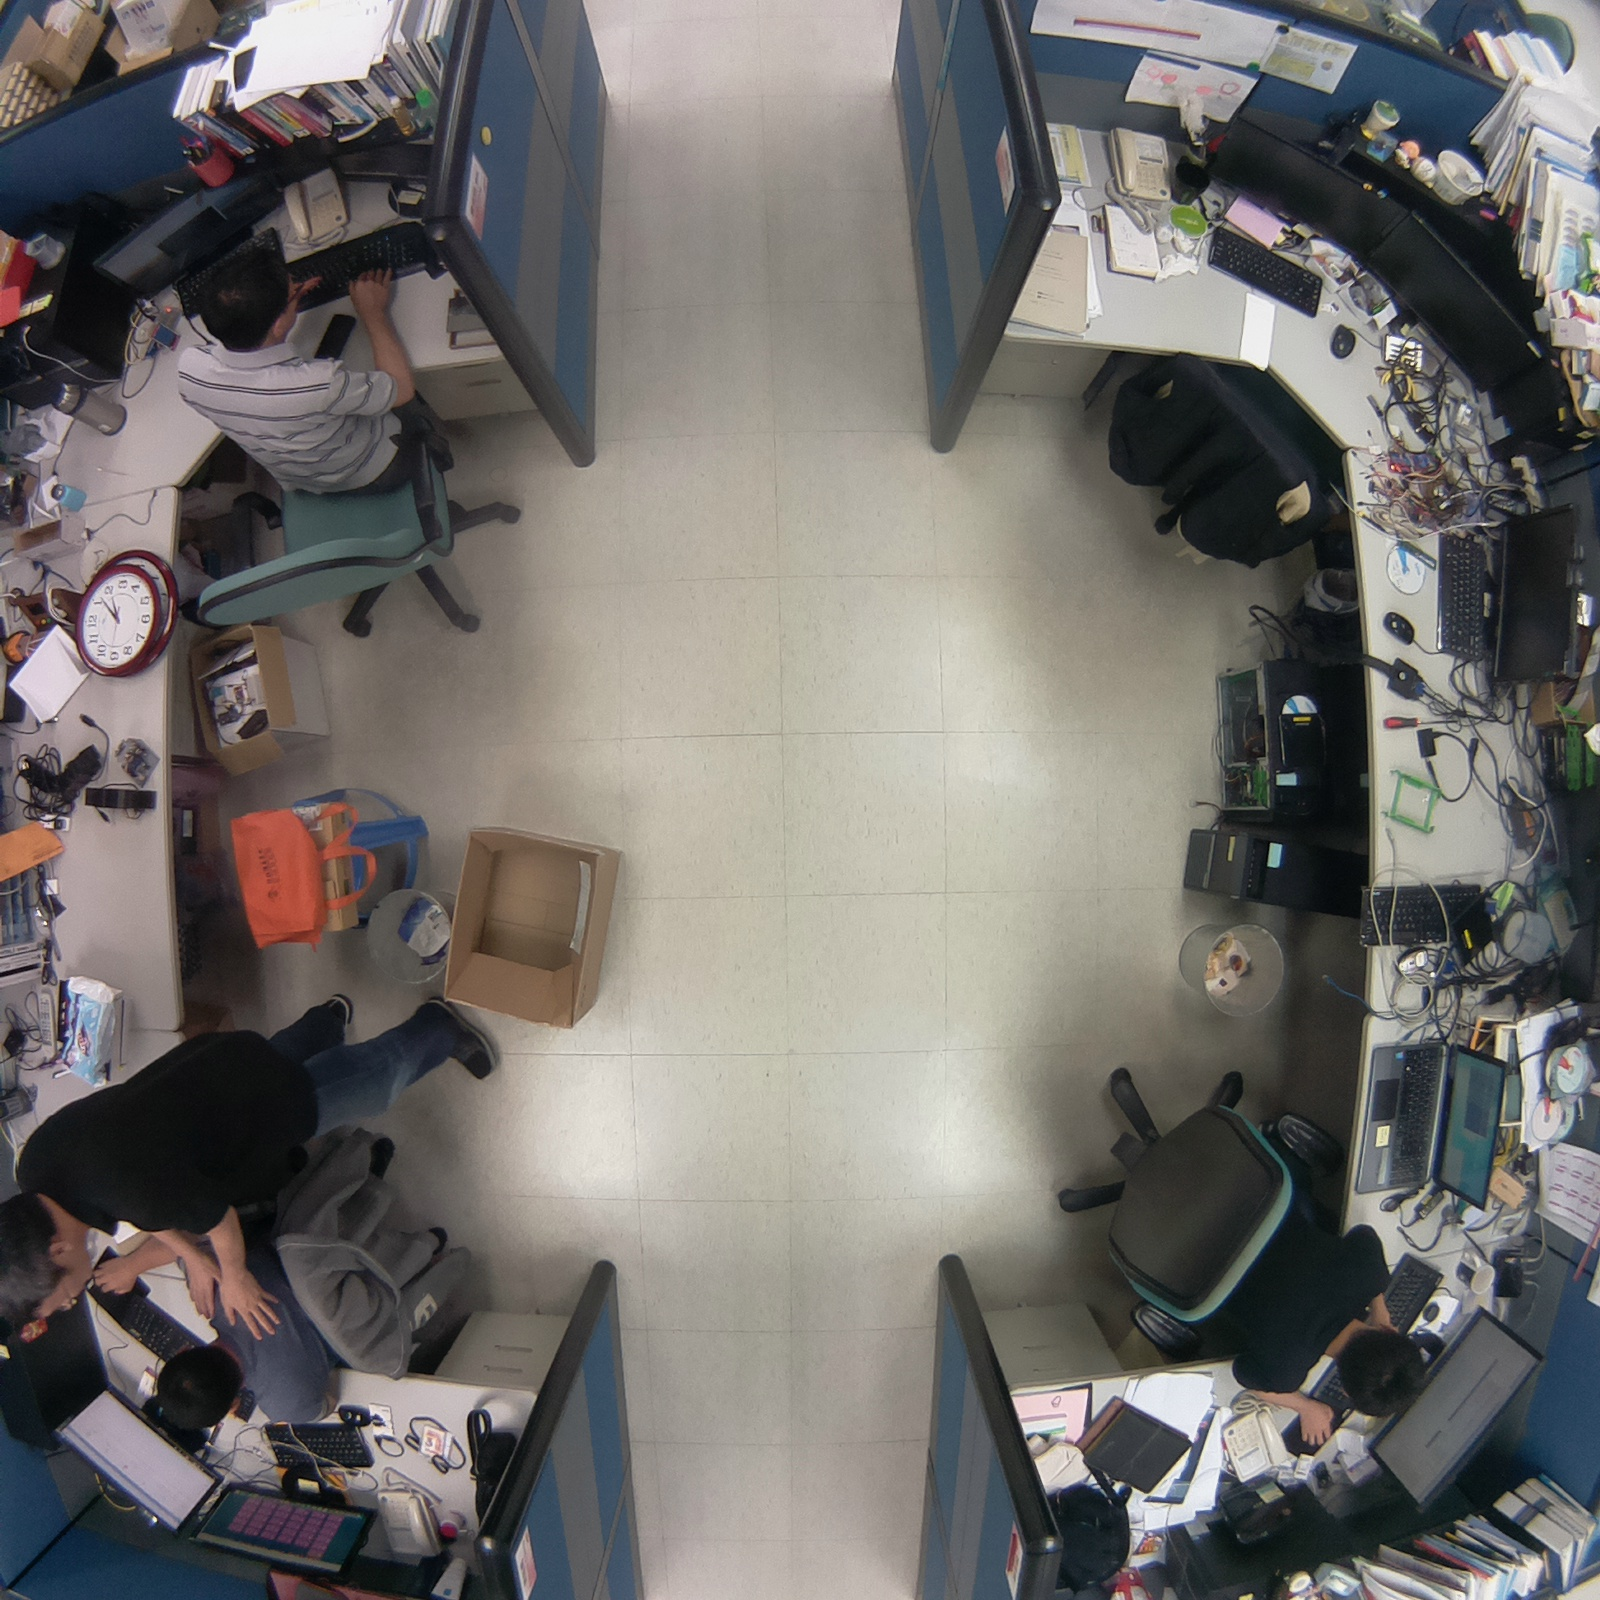chair: (1083, 319, 1358, 581)
head: (1, 1182, 88, 1338), (194, 239, 309, 353), (139, 1339, 250, 1445), (1333, 1322, 1435, 1422)
sitting: (1027, 1050, 1432, 1452), (170, 229, 532, 658), (101, 1099, 494, 1463)
standing: (1, 958, 540, 1355)
